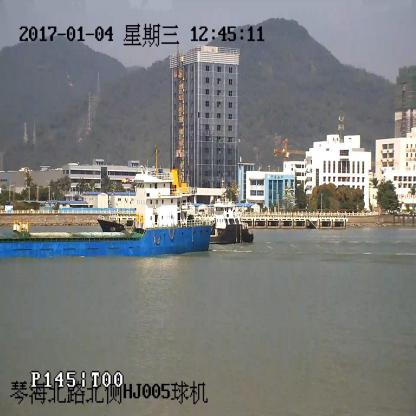Bulk Carrier: (0, 170, 213, 256)
